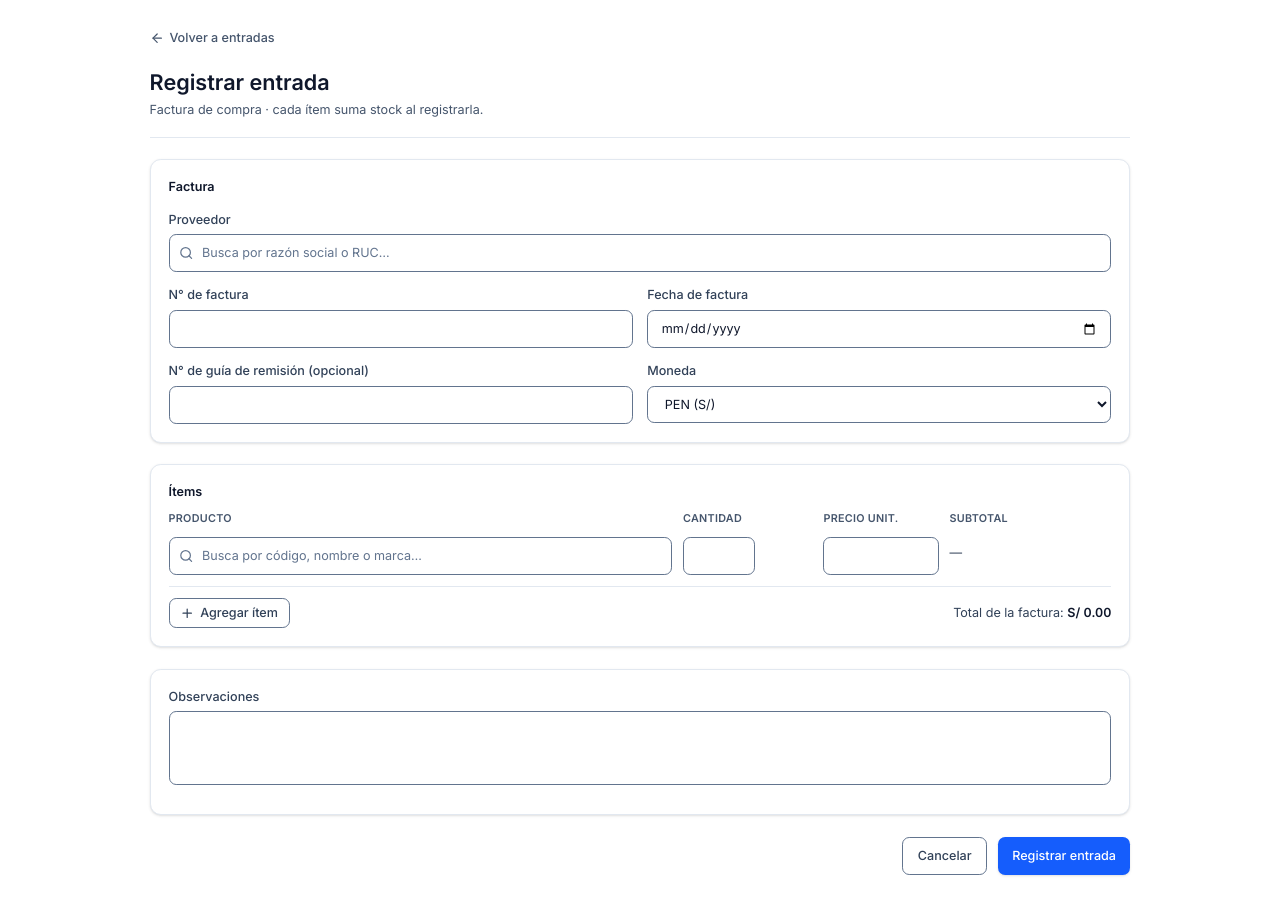
EntryCreatePage › agrega una fila sin tocar los valores de la anterior
Type "7" into the number field named "Cantidad del ítem 1" at point(719, 556), box [683, 537, 755, 575]
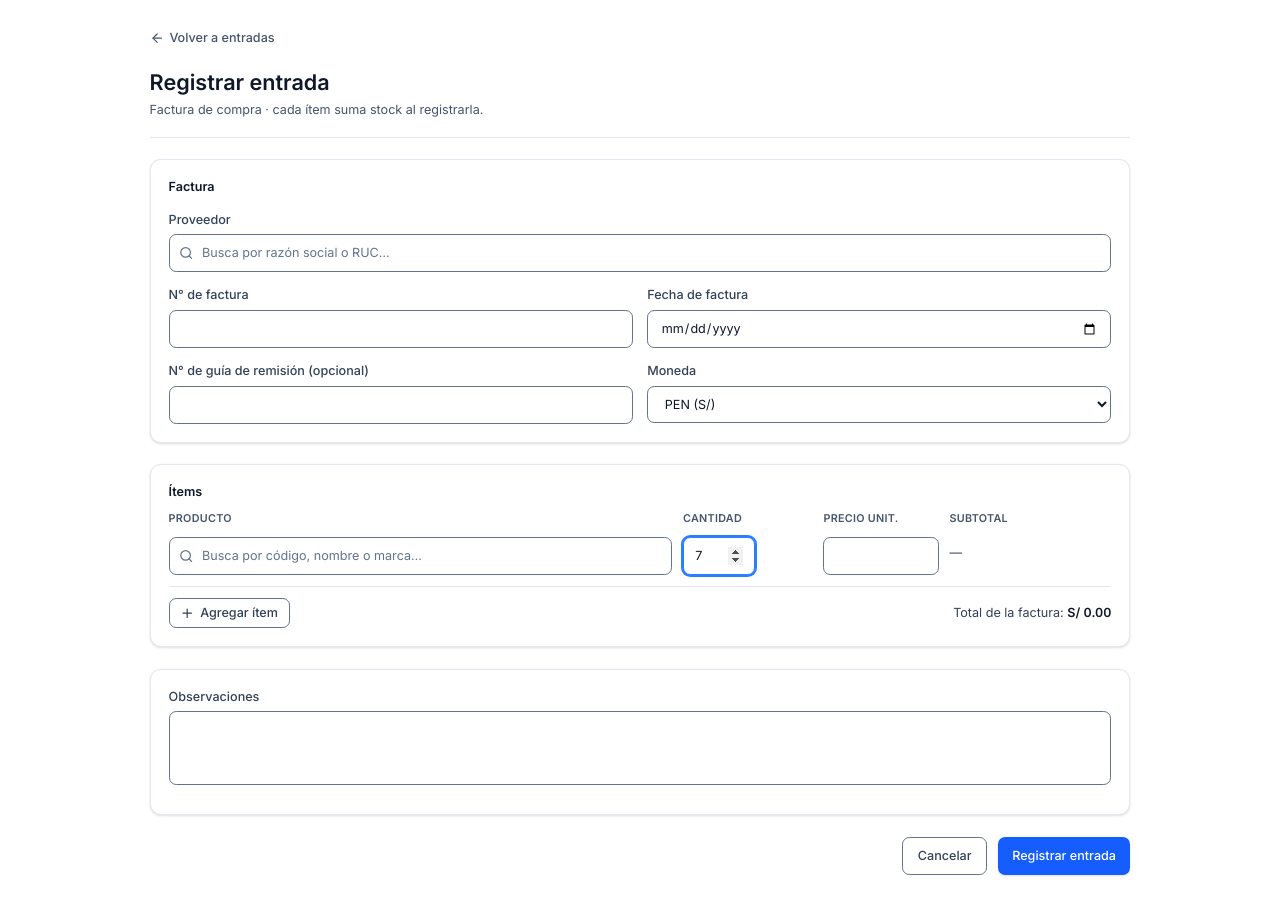
Click the button "Agregar ítem" at point(229, 613), box [169, 598, 290, 628]
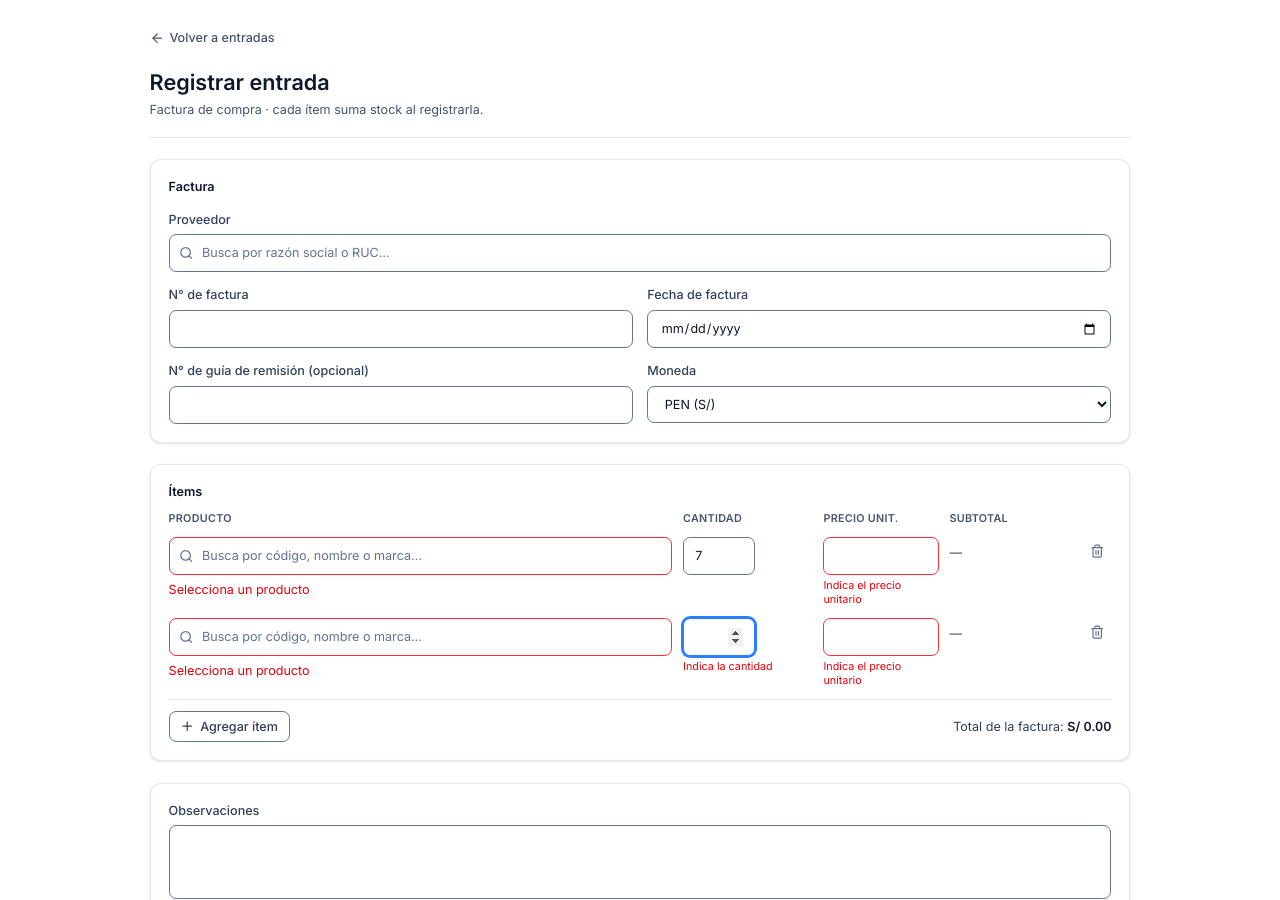
Now the dropdown named "Producto del ítem 2" is shown, box [169, 618, 672, 656]
